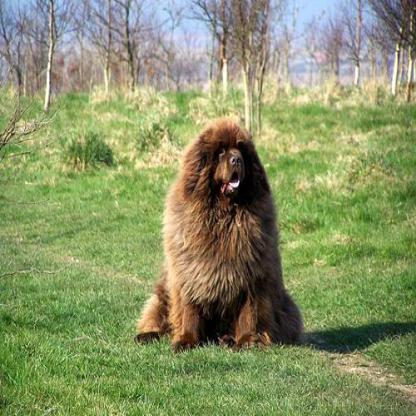Newfoundland: (133, 115, 305, 352)
